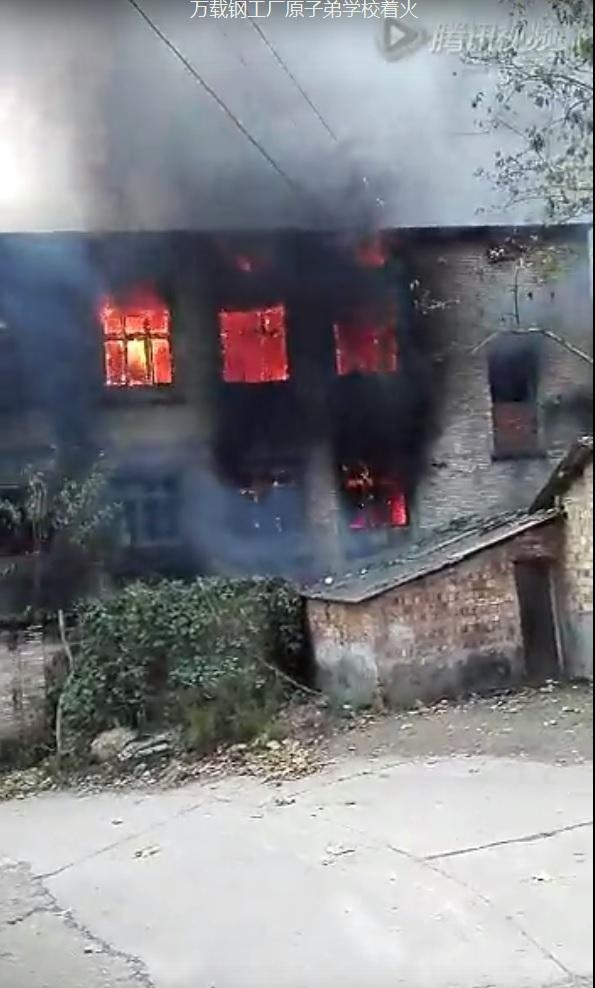fire: (98, 296, 172, 387), (217, 304, 285, 381), (343, 463, 409, 528), (333, 320, 398, 375)
